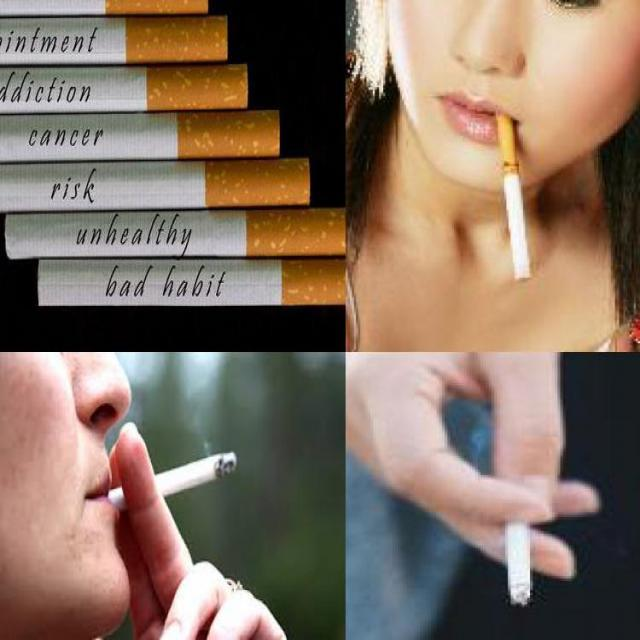cigarette: (4, 206, 344, 260), (0, 157, 311, 214), (0, 109, 282, 168), (36, 257, 344, 307), (0, 62, 249, 120), (0, 15, 229, 69), (94, 451, 238, 517), (495, 108, 533, 284), (0, 0, 210, 22), (504, 496, 534, 606)
